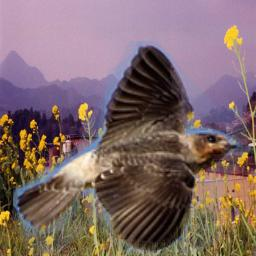Swallow: (13, 41, 247, 255)
